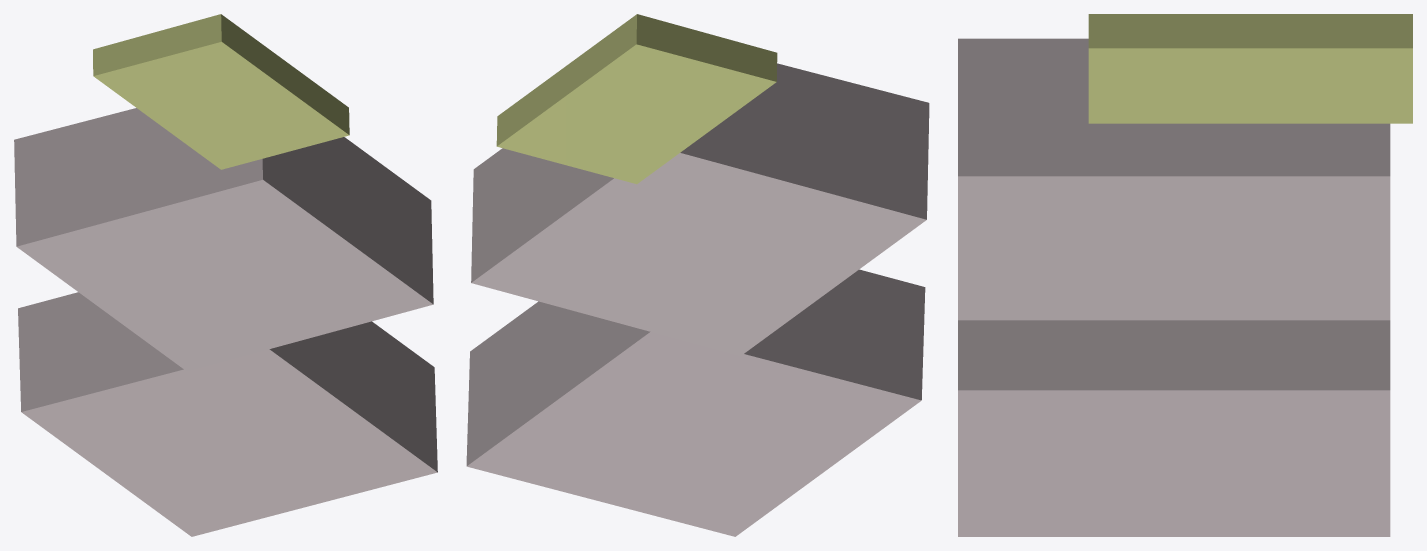
3 renders of one model, left to right at view 1: azimuth 30°, elevation 25°; view 2: azimuth 150°, elevation 25°; view 3: azimuth 270°, elevation 25°, orthographic. The views are drawn at different scales.
Visible parts, largest first — view 1: 0_1_2_3_3_3_3_3_3_2_2; view 2: 0_1_2_3_3_3_3_3_3_2_2; view 3: 0_1_2_3_3_3_3_3_3_2_2.
Boxes of the visible parts, x1,y1,x2,y2 form: 0_1_2_3_3_3_3_3_3_2_2: [14, 14, 437, 536]; 0_1_2_3_3_3_3_3_3_2_2: [466, 14, 929, 536]; 0_1_2_3_3_3_3_3_3_2_2: [958, 14, 1412, 536].
Bounding box in the file's own units: 10.28 × 13.22 × 12.63.
